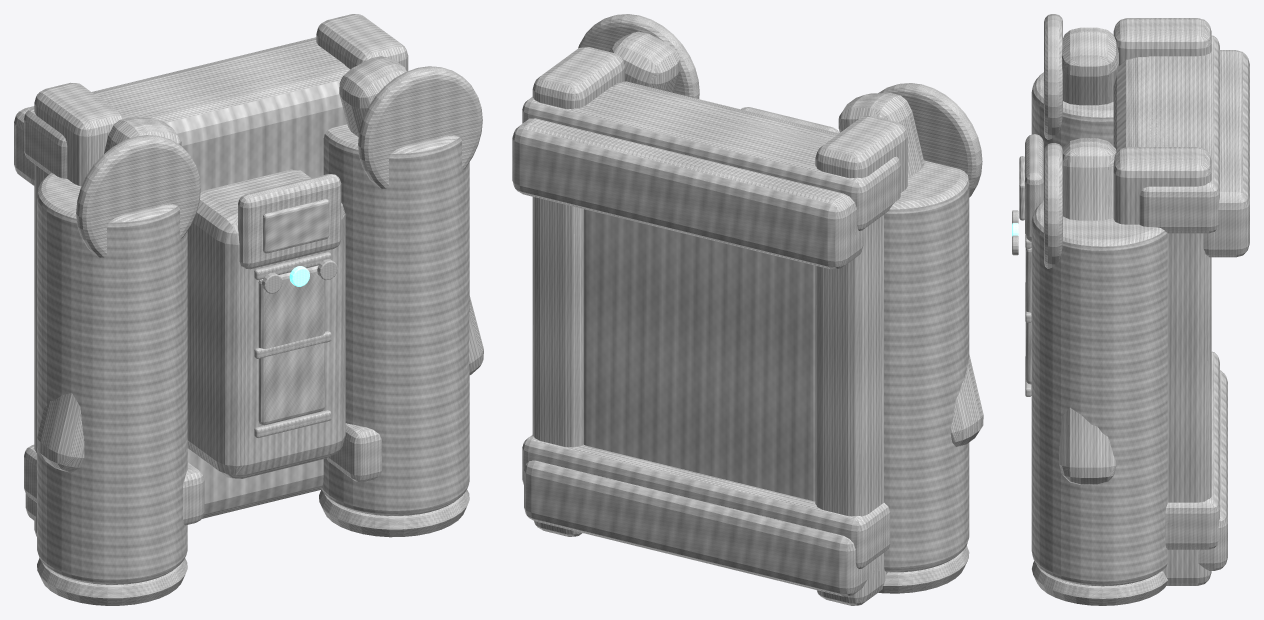
Rendered from jetpack_variant_c.glb.
3 views of the same model, side by side, from view 1: azimuth 30°, elevation 25°; view 2: azimuth 150°, elevation 25°; view 3: azimuth 270°, elevation 25° (orthographic). The views are drawn at different scales.
Visible parts, largest first — view 1: Exposed turbine, Exposed turbine.001, Fuel cell shell.002, Backplate.003, Cross-brace upper, Turbine intake grille.001, Turbine intake grille, Fuel level window.002, Vertical load rail, Status panel bezel.002, Shoulder strap.004, Shoulder strap.005 (+11 smaller); view 2: Backplate.003, Exposed turbine, Upper harness bridge.002, Vertical load rail, Waist stabilizer.002, Vertical load rail.001, Cross-brace upper, Cross-brace lower, Turbine intake grille, Shoulder strap.004, Shoulder strap.005, Turbine intake grille.001 (+1 smaller); view 3: Exposed turbine.001, Vertical load rail.001, Cross-brace upper, Shoulder strap.005, Upper harness bridge.002, Shoulder strap.004, Cross-brace lower, Vertical load rail, Backplate.003, Exposed turbine, Exhaust safety ring, Turbine intake grille.001 (+5 smaller).
Boxes of the visible parts, left/top/right/bottom form: Exposed turbine: left=37, top=173, right=187, bottom=584; Exposed turbine.001: left=321, top=124, right=469, bottom=515; Fuel cell shell.002: left=187, top=169, right=345, bottom=478; Backplate.003: left=123, top=65, right=349, bottom=518; Cross-brace upper: left=24, top=38, right=345, bottom=178; Turbine intake grille.001: left=358, top=66, right=482, bottom=188; Turbine intake grille: left=76, top=135, right=200, bottom=257; Fuel level window.002: left=258, top=265, right=324, bottom=425; Vertical load rail: left=34, top=82, right=124, bottom=536; Status panel bezel.002: left=238, top=174, right=341, bottom=269; Shoulder strap.004: left=37, top=117, right=181, bottom=472; Shoulder strap.005: left=339, top=56, right=483, bottom=374; Backplate.003: left=583, top=81, right=838, bottom=501; Exposed turbine: left=884, top=160, right=969, bottom=572; Upper harness bridge.002: left=512, top=118, right=863, bottom=269; Vertical load rail: left=815, top=116, right=907, bottom=605; Waist stabilizer.002: left=524, top=460, right=879, bottom=596; Vertical load rail.001: left=532, top=47, right=624, bottom=536; Cross-brace upper: left=522, top=86, right=900, bottom=230; Cross-brace lower: left=522, top=435, right=890, bottom=568; Turbine intake grille: left=878, top=83, right=982, bottom=197; Shoulder strap.004: left=838, top=92, right=983, bottom=446; Shoulder strap.005: left=609, top=31, right=680, bottom=92; Turbine intake grille.001: left=578, top=14, right=699, bottom=98; Exposed turbine.001: left=1031, top=201, right=1167, bottom=586; Vertical load rail.001: left=1113, top=147, right=1211, bottom=585; Cross-brace upper: left=1139, top=35, right=1219, bottom=233; Shoulder strap.005: left=1059, top=138, right=1116, bottom=484; Upper harness bridge.002: left=1203, top=50, right=1249, bottom=257; Shoulder strap.004: left=1062, top=27, right=1118, bottom=105; Cross-brace lower: left=1165, top=351, right=1219, bottom=549; Vertical load rail: left=1113, top=18, right=1211, bottom=65; Backplate.003: left=1113, top=57, right=1175, bottom=151; Exposed turbine: left=1031, top=72, right=1113, bottom=149; Exhaust safety ring: left=1032, top=561, right=1168, bottom=605; Turbine intake grille.001: left=1044, top=143, right=1062, bottom=268.
Size of what is drawn, in the model's own units: 0.8574 by 0.875 by 0.436.
8 materials, 8 textured.
